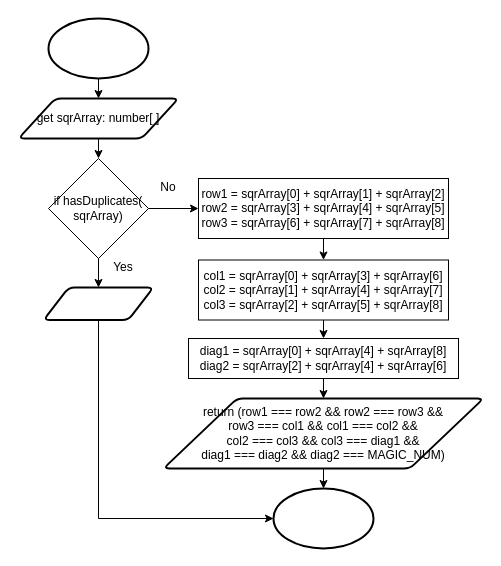
Some shapes in this 501 by 566 pixel diagram are drawn without their labels. Here are the shapes that lost their labels. From the top down, the centre of each, then its label:
the point at 98,48: Start
the point at 98,303: return false
the point at 323,518: Stop
